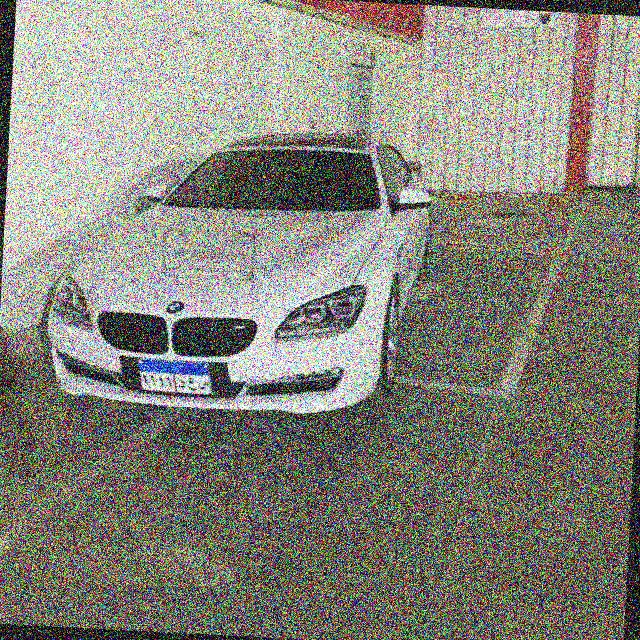License Plate: (133, 356, 215, 397)
